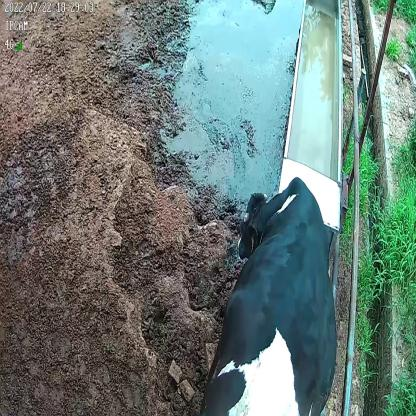cow: (199, 174, 338, 416)
